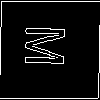M: (25, 25, 76, 67)
